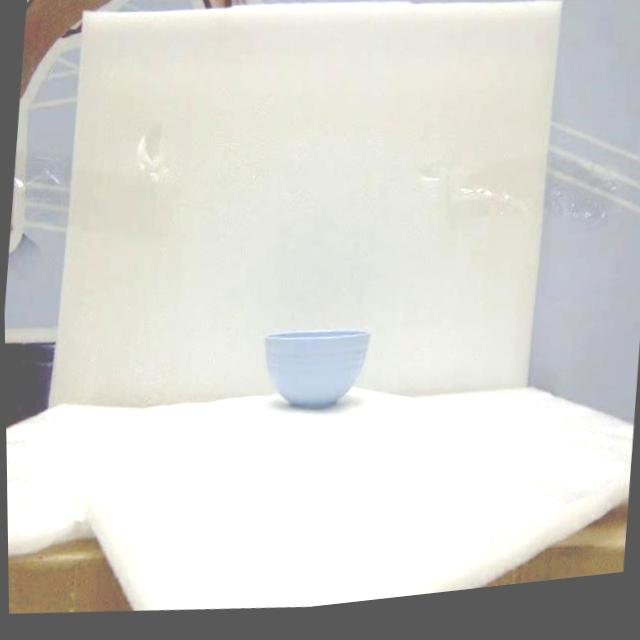Bowl: (264, 330, 369, 408)
